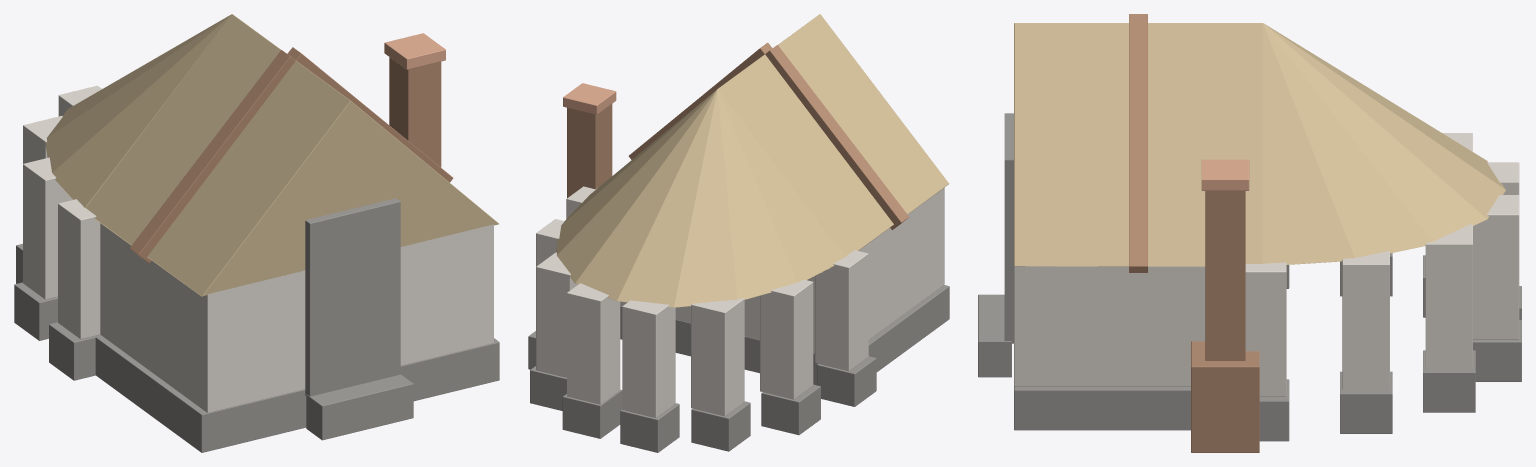
Rendered from House_Chalco_b.glb.
The picture shows the model from 3 angles, left to right: view 1: azimuth 30°, elevation 25°; view 2: azimuth 150°, elevation 25°; view 3: azimuth 270°, elevation 25°; orthographic projection. The views are drawn at different scales.
Visible parts, largest first — view 1: House_Chalco_b; view 2: House_Chalco_b; view 3: House_Chalco_b.
Boxes of the visible parts, box(x1,y1,x2,y2) form: House_Chalco_b: box(14, 14, 499, 452); House_Chalco_b: box(528, 14, 949, 452); House_Chalco_b: box(978, 14, 1521, 452).
Size of what is drawn, in the model's own units: 4.17 by 3.52 by 5.14.
